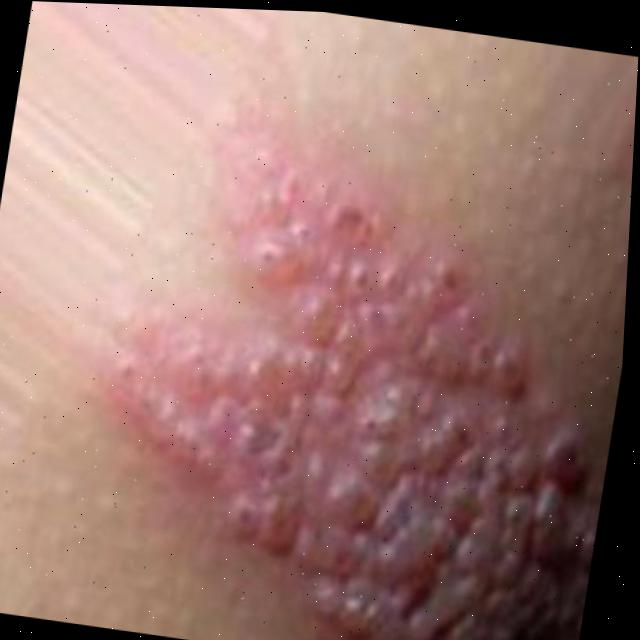Shingles: (87, 151, 632, 640)
